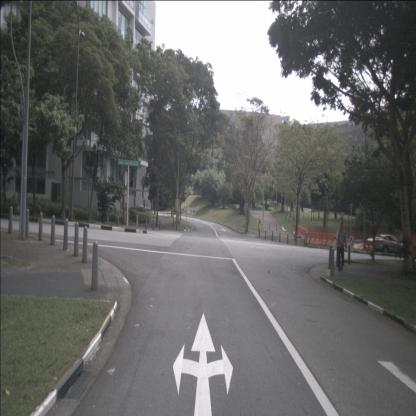barrier: (309, 232, 322, 245), (322, 232, 334, 246), (337, 237, 350, 249), (351, 239, 364, 250), (364, 240, 374, 250), (298, 226, 304, 239), (303, 229, 308, 244), (293, 223, 298, 234)
